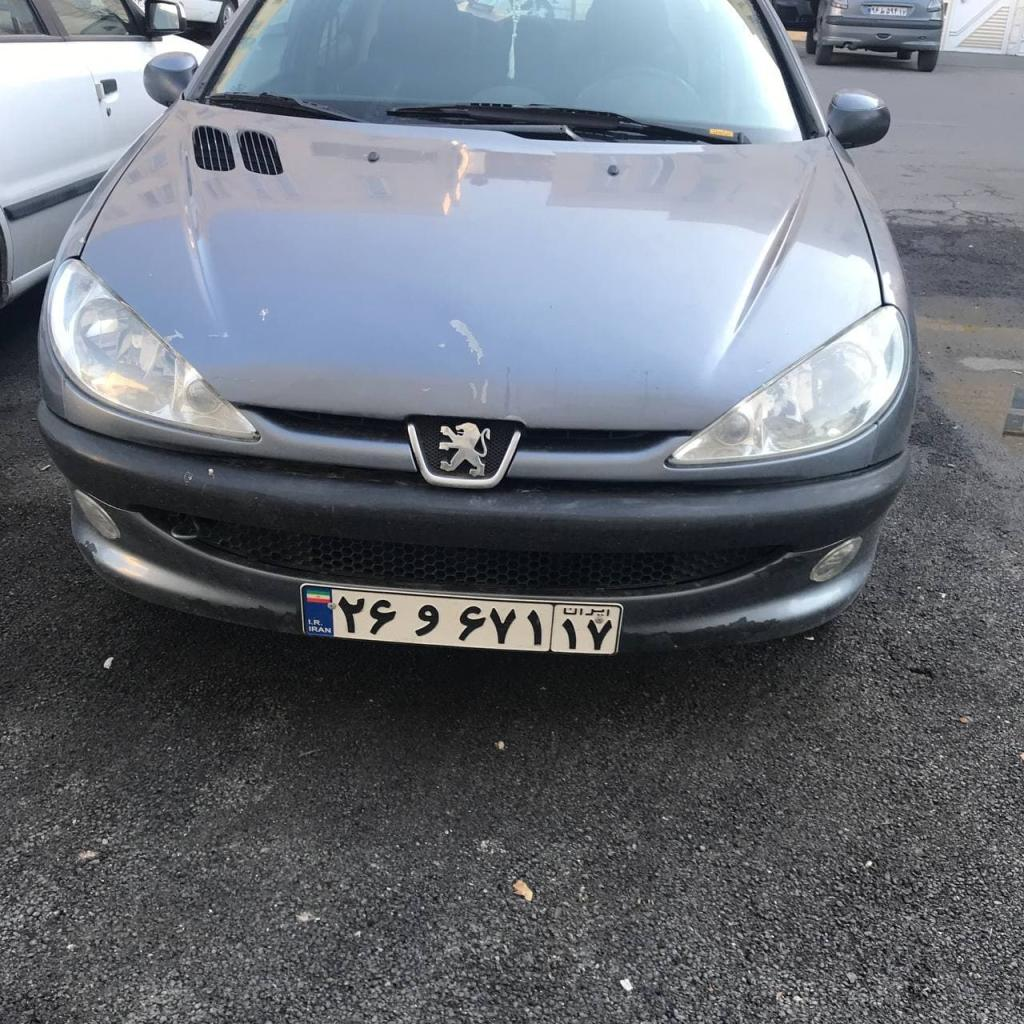Plates: (303, 585, 621, 653)
